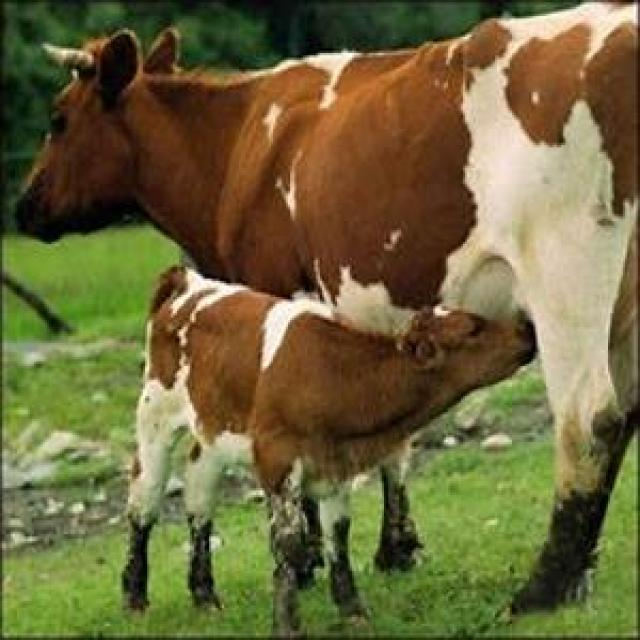cow: (19, 4, 640, 609), (122, 268, 531, 635), (375, 457, 420, 570)
